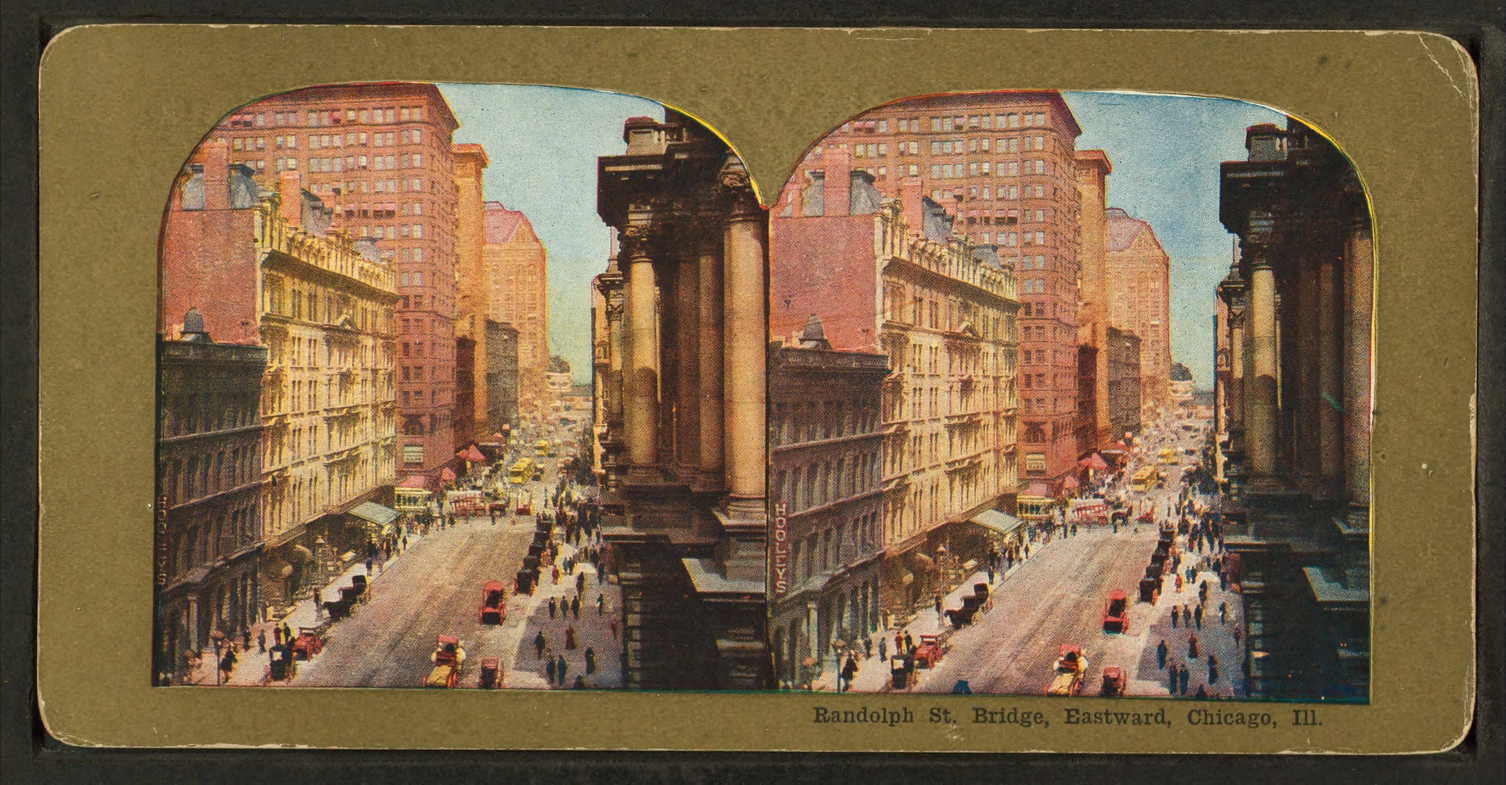half_image: (158, 82, 767, 688), (771, 91, 1373, 698)
